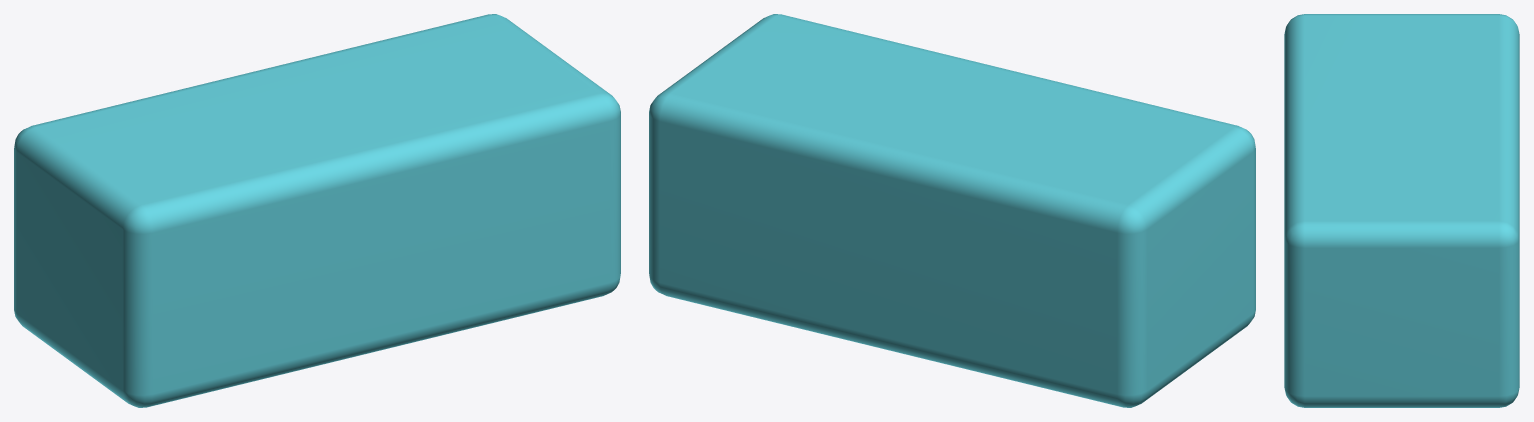
The model's file is Tile1.fbx.
The picture shows the model from 3 angles, left to right: view 1: azimuth 30°, elevation 25°; view 2: azimuth 150°, elevation 25°; view 3: azimuth 270°, elevation 25°; orthographic projection. The views are drawn at different scales.
Parts seen in each view (by area): view 1: m1; view 2: m1; view 3: m1.
Boxes of the visible parts, x1,y1,x2,y2 form: m1: (14, 14, 620, 407); m1: (649, 14, 1255, 407); m1: (1284, 14, 1519, 407).
Size of the model in its own units: 12.4 by 4.81 by 5.54.
